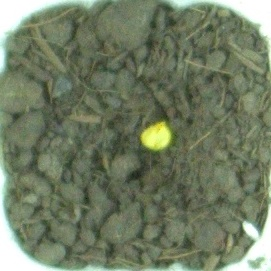pepper seed: (52, 42, 225, 195)
